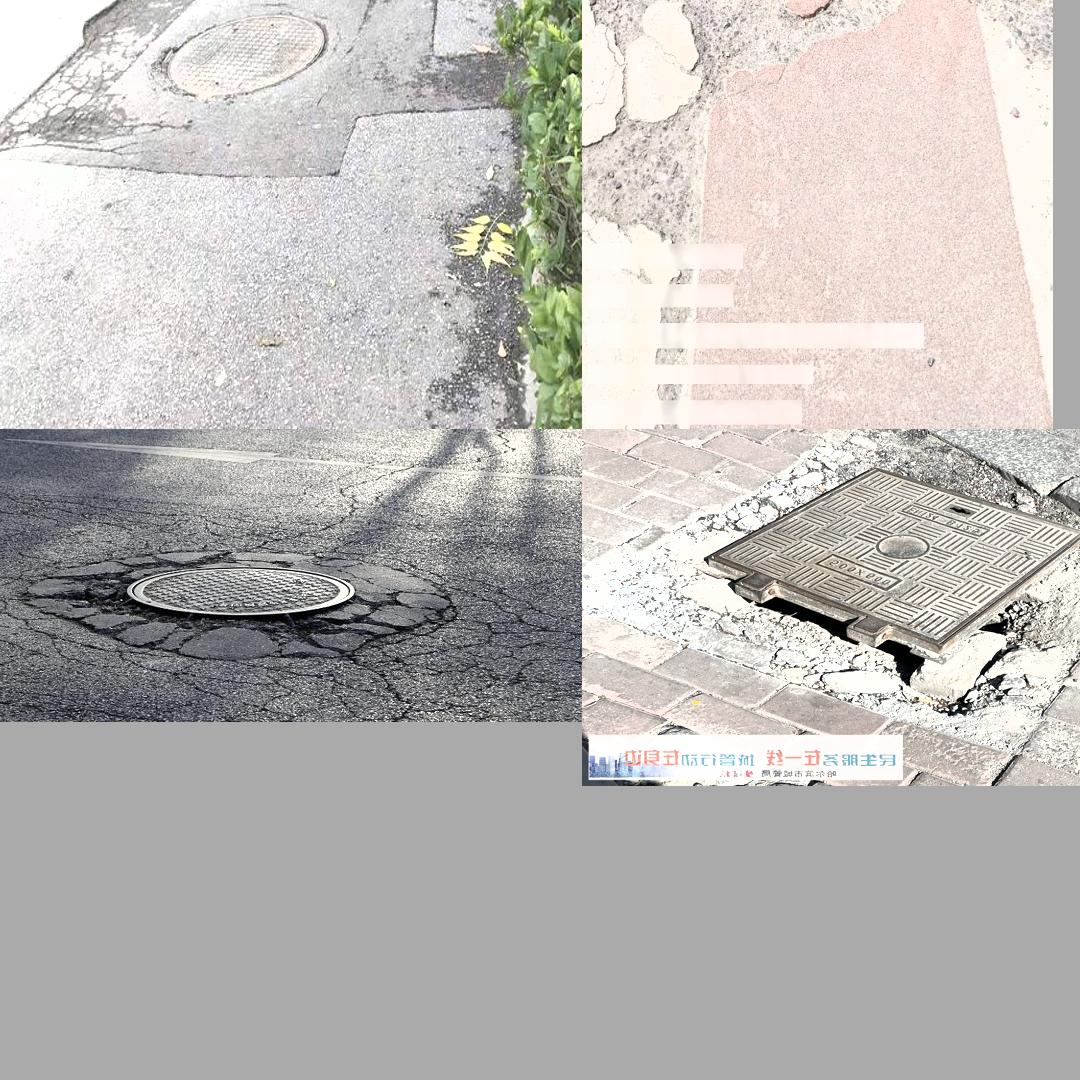circle: (618, 465, 1080, 714), (44, 0, 432, 170), (63, 546, 468, 674)
